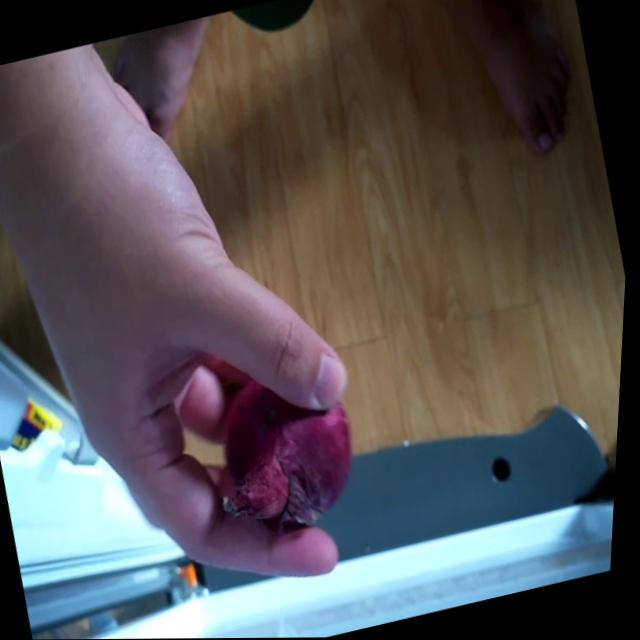onion: (202, 359, 378, 544)
